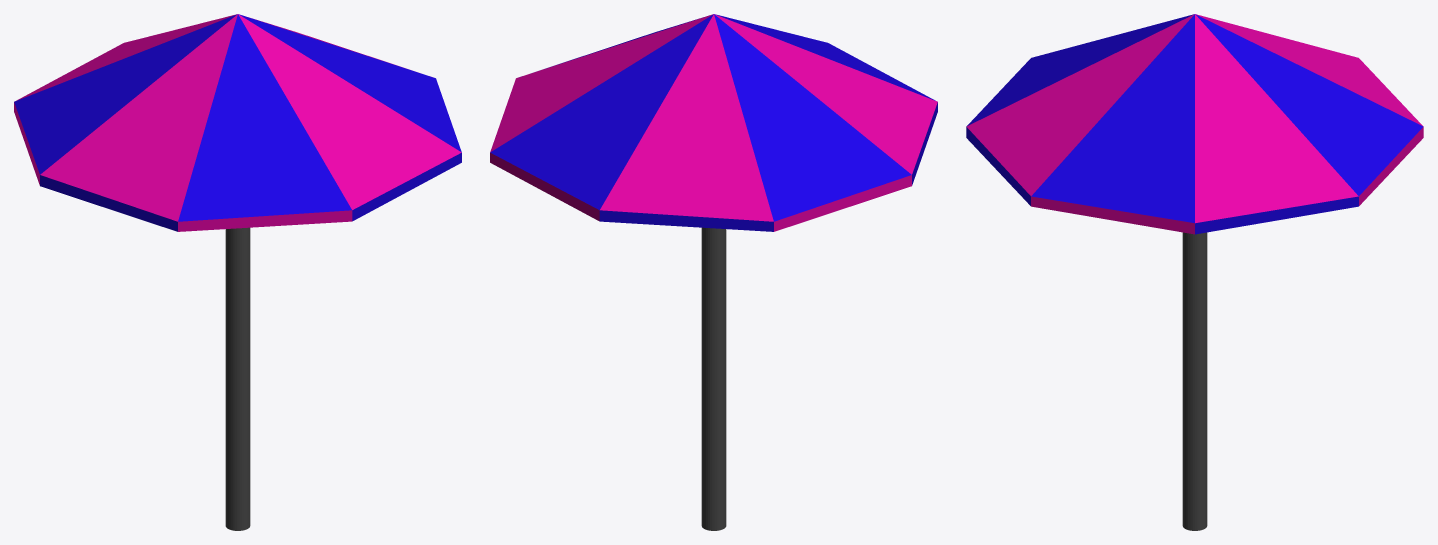
File: brolly.fbx
3 renders of one model, left to right at view 1: azimuth 30°, elevation 25°; view 2: azimuth 150°, elevation 25°; view 3: azimuth 270°, elevation 25°, orthographic.
Parts seen in each view (by area): view 1: brolly; view 2: brolly; view 3: brolly.
Part boxes in pixels (x1,y1,x2,y2): brolly: (14,14,461,530); brolly: (490,14,937,530); brolly: (966,14,1423,530).
Size of the model in its own units: 143 by 143 by 177.
